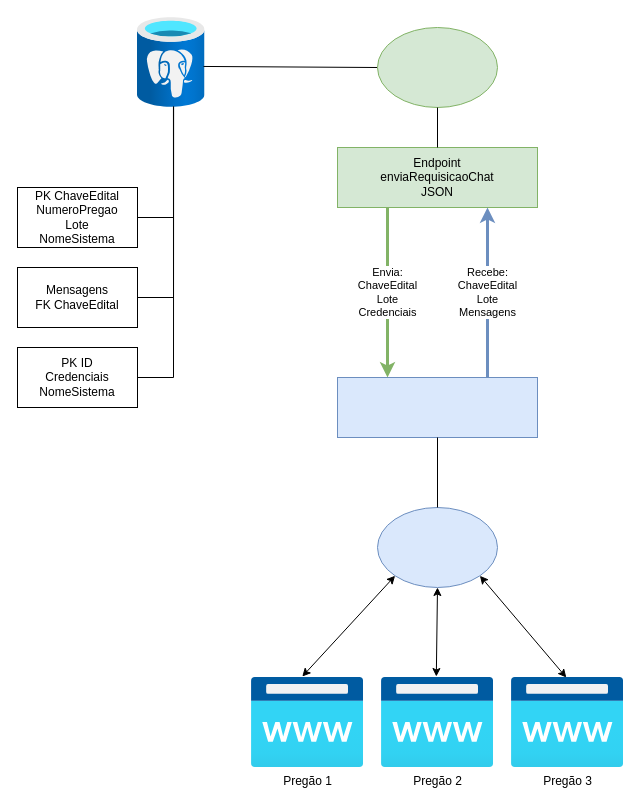
Some shapes in this 641 by 805 pixel diagram are drawn without their labels. Each missing label, with the centre of its shape:
Bot BBMNET: (437,547)
Endpoint recebeRequisicao JSON: (437,407)
Sistema de Chat: (437,67)
